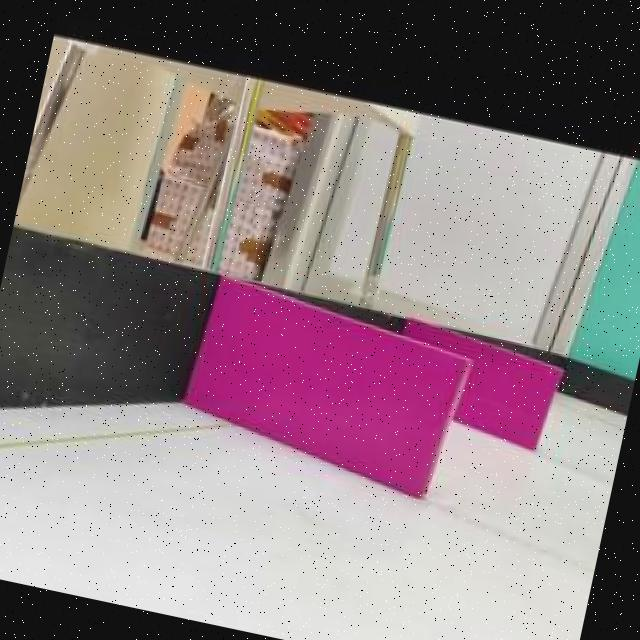xparking: (182, 276, 472, 499), (455, 342, 561, 451)
